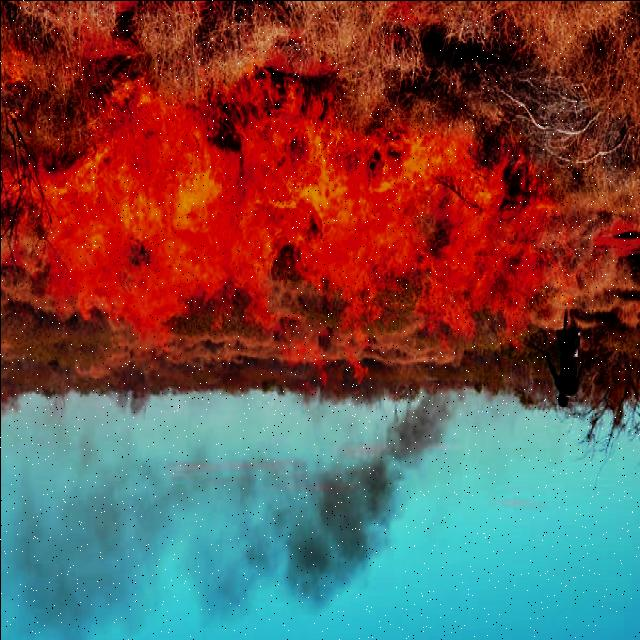api: (14, 62, 562, 388)
asap: (272, 359, 494, 619)
